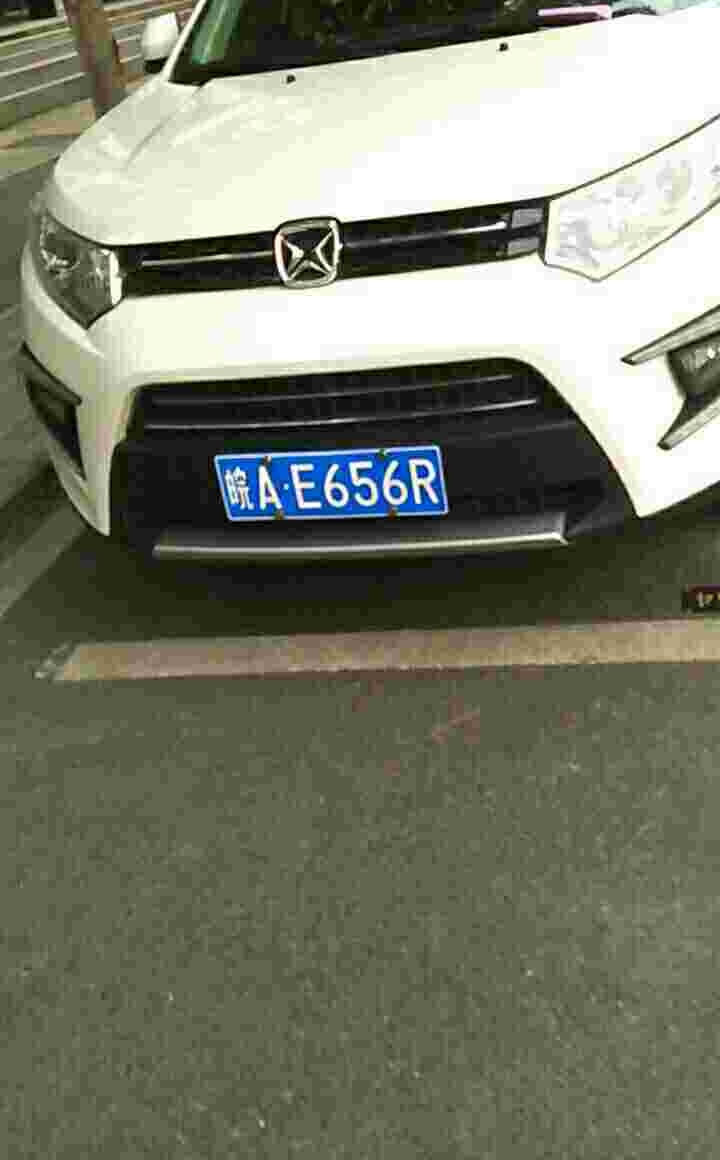car: (206, 450, 451, 526)
